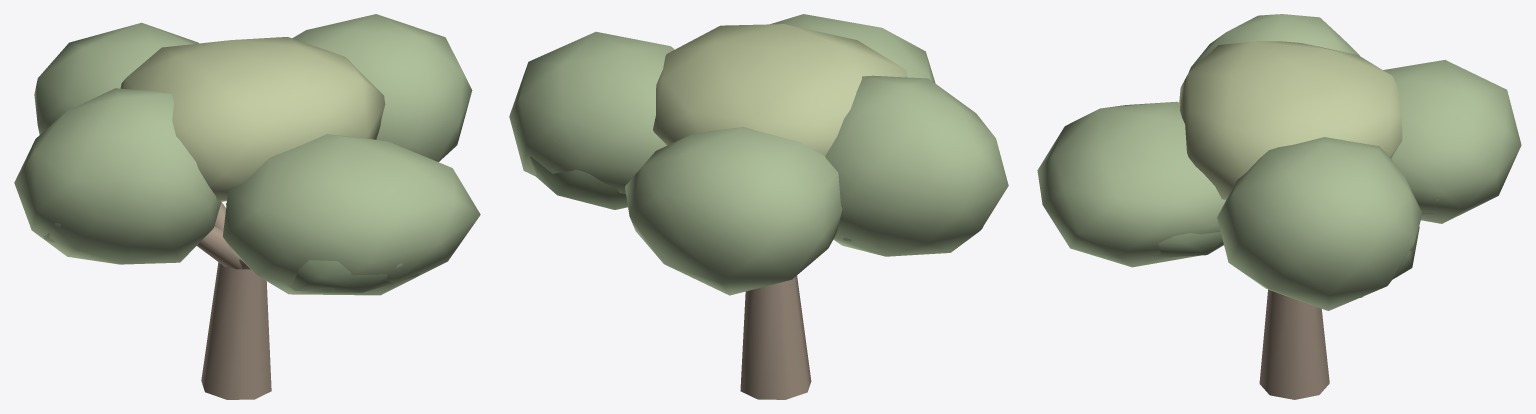
The model's file is tree_ombu_0.glb.
The picture shows the model from 3 angles, left to right: view 1: azimuth 30°, elevation 25°; view 2: azimuth 150°, elevation 25°; view 3: azimuth 270°, elevation 25°; orthographic projection. The views are drawn at different scales.
Parts seen in each view (by area): view 1: tree_ombu_0.glb; view 2: tree_ombu_0.glb; view 3: tree_ombu_0.glb.
Boxes of the visible parts, x1,y1,x2,y2 form: tree_ombu_0.glb: [14, 14, 480, 399]; tree_ombu_0.glb: [509, 14, 1008, 399]; tree_ombu_0.glb: [1037, 14, 1521, 399].
Bounding box in the file's own units: 6.85 × 4.87 × 6.61.
